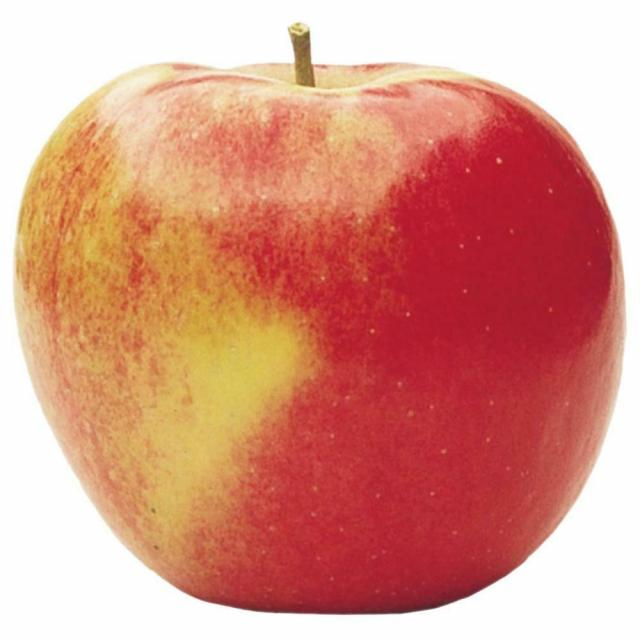Apple: (13, 24, 628, 618)
